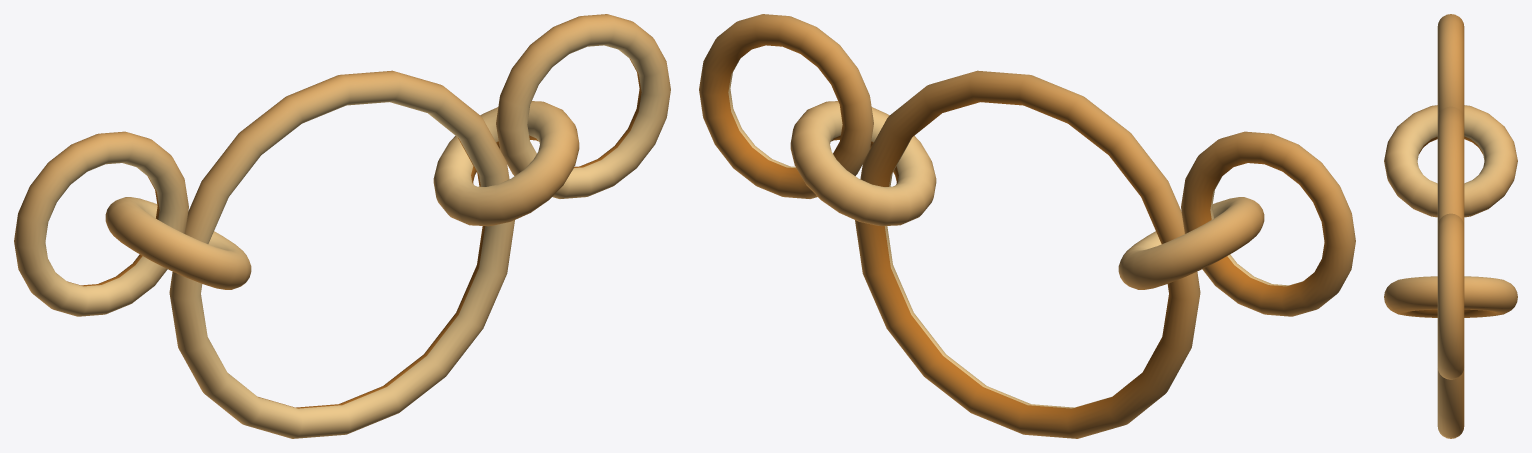
The model's file is hashigo_n_c.fbx.
3 views of the same model, side by side, from view 1: azimuth 30°, elevation 25°; view 2: azimuth 150°, elevation 25°; view 3: azimuth 270°, elevation 25° (orthographic). The views are drawn at different scales.
Parts seen in each view (by area): view 1: d1; view 2: d1; view 3: d1.
Boxes of the visible parts, box(x1,y1,x2,y2) form: d1: box(14, 14, 670, 438); d1: box(699, 14, 1355, 438); d1: box(1384, 14, 1517, 438).
Bounding box in the file's own units: 19.09 × 10 × 4.
Materials: 1 (1 with a texture image).
